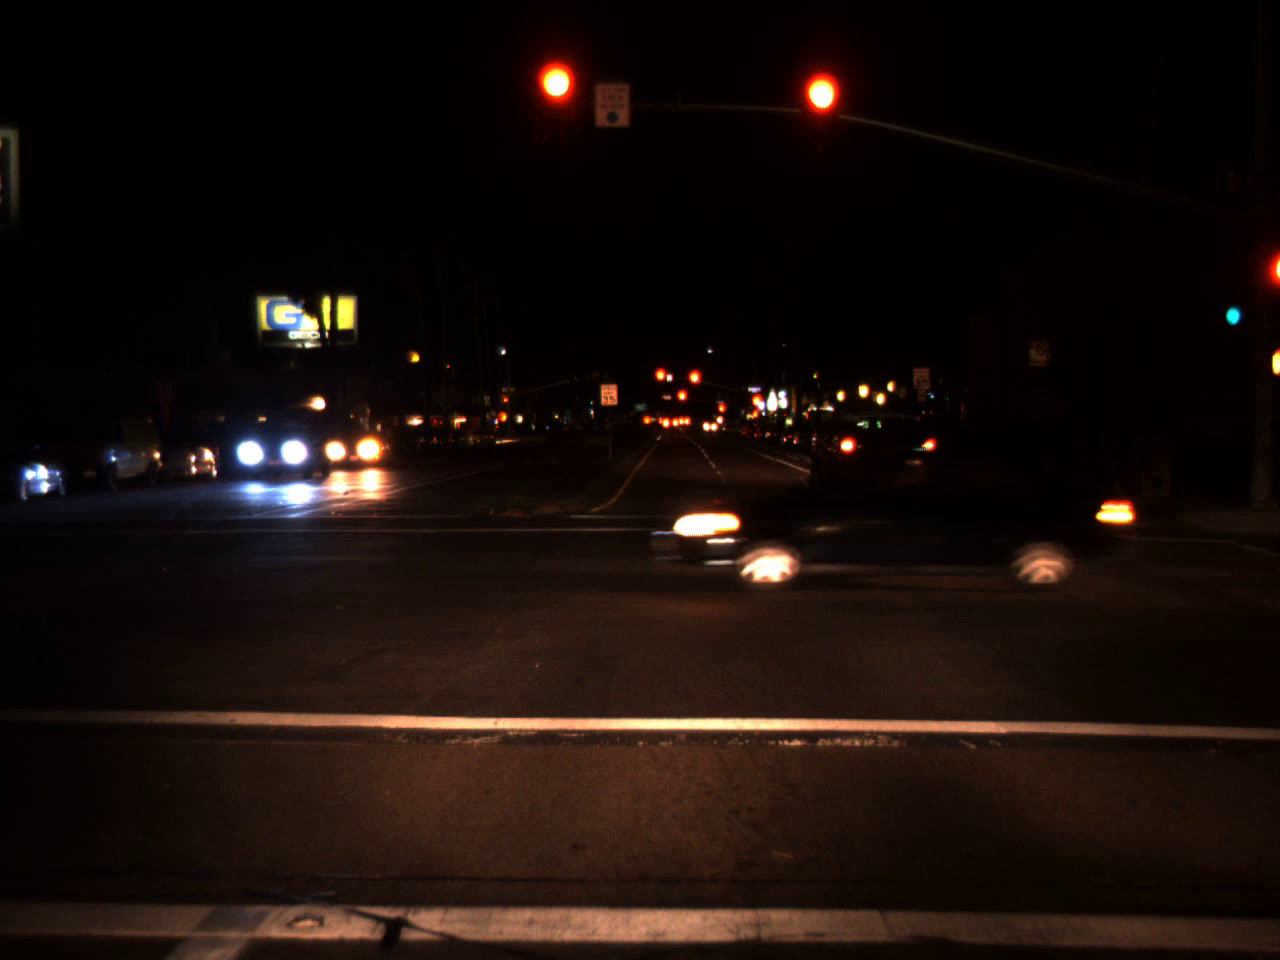stop: (537, 63, 577, 141), (801, 73, 840, 151), (653, 366, 669, 395), (686, 369, 701, 398), (675, 387, 688, 414), (717, 402, 726, 423), (500, 395, 509, 411), (752, 396, 759, 412)
